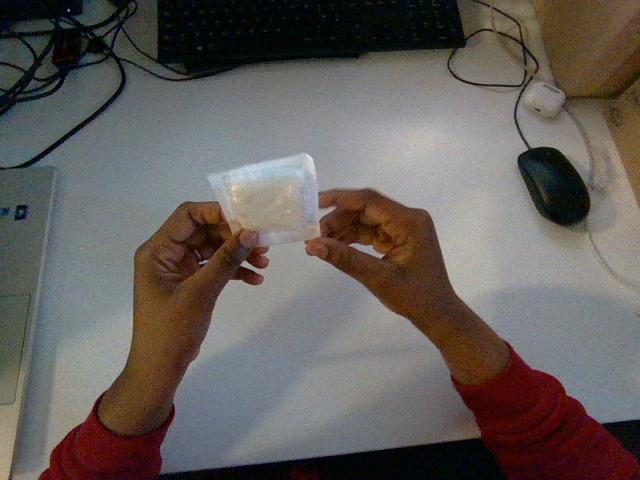gauze: (208, 153, 319, 245)
